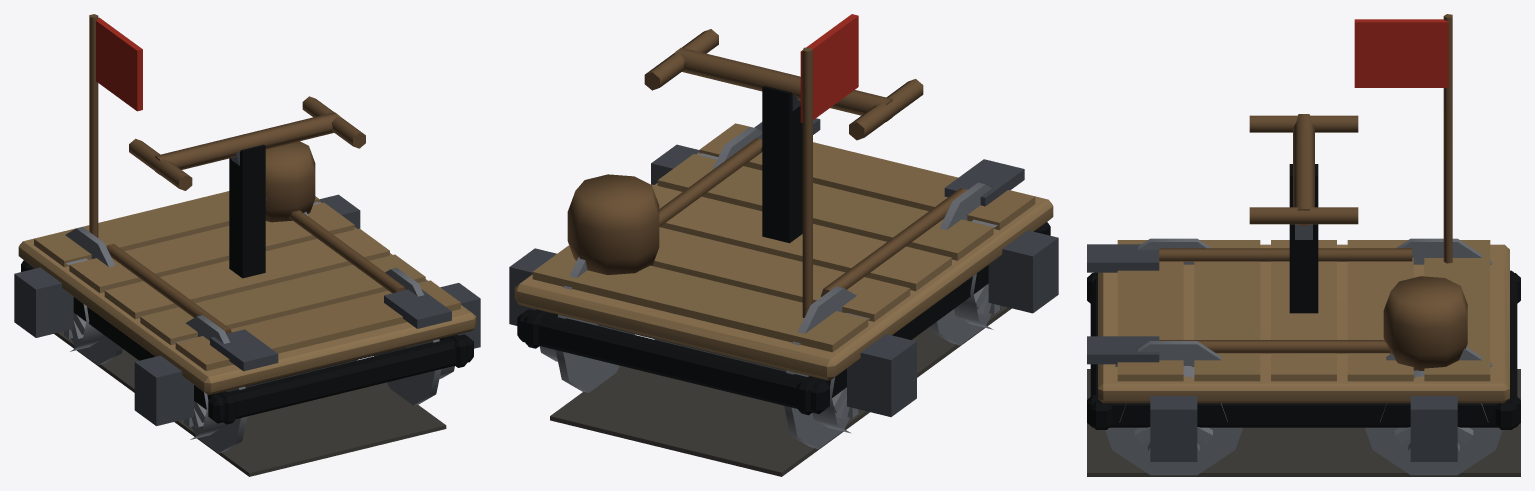
Rendered from permanent-way-trolley.glb.
3 views of the same model, side by side, from view 1: azimuth 30°, elevation 25°; view 2: azimuth 150°, elevation 25°; view 3: azimuth 270°, elevation 25° (orthographic). The views are drawn at different scales.
Visible parts, largest first — view 1: permanent_way_trolley; view 2: permanent_way_trolley; view 3: permanent_way_trolley.
Boxes of the visible parts, x1,y1,x2,y2 form: permanent_way_trolley: [14, 14, 480, 476]; permanent_way_trolley: [509, 14, 1058, 476]; permanent_way_trolley: [1087, 14, 1520, 476].
Bounding box in the file's own units: 1.12 × 1.11 × 1.2.
